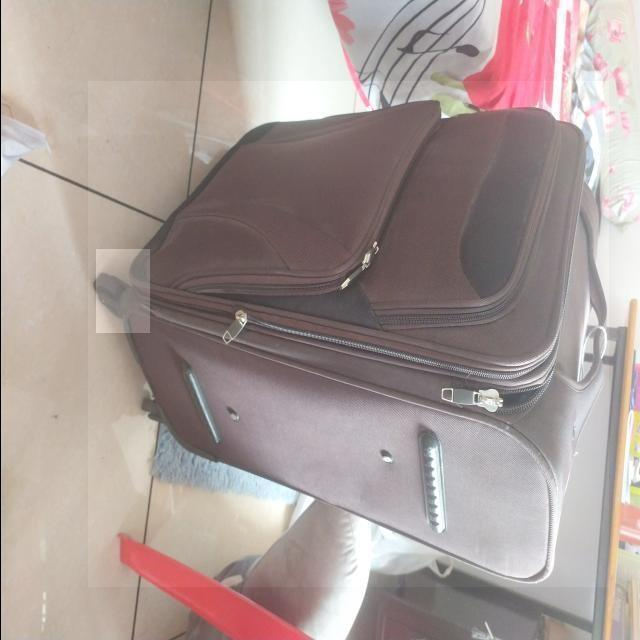Suitcase: (96, 99, 610, 591)
